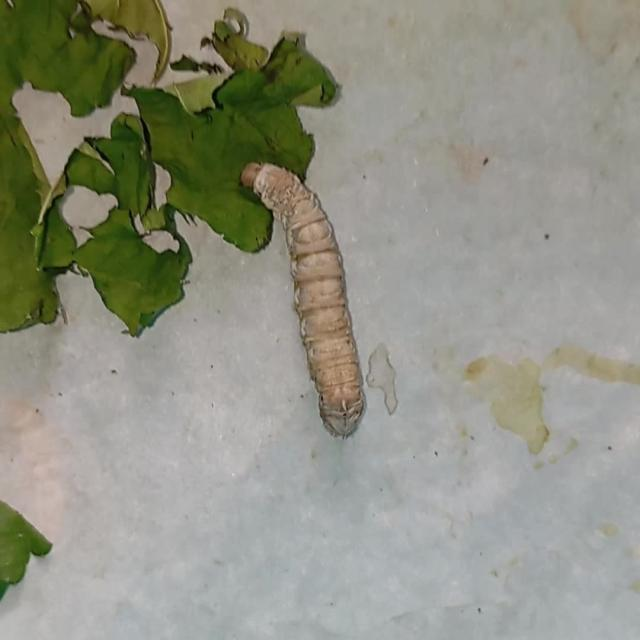Grasserie: (224, 153, 388, 444)
